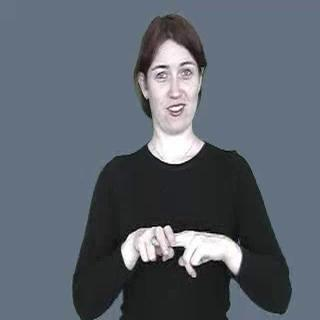chair: (112, 222, 238, 279)
